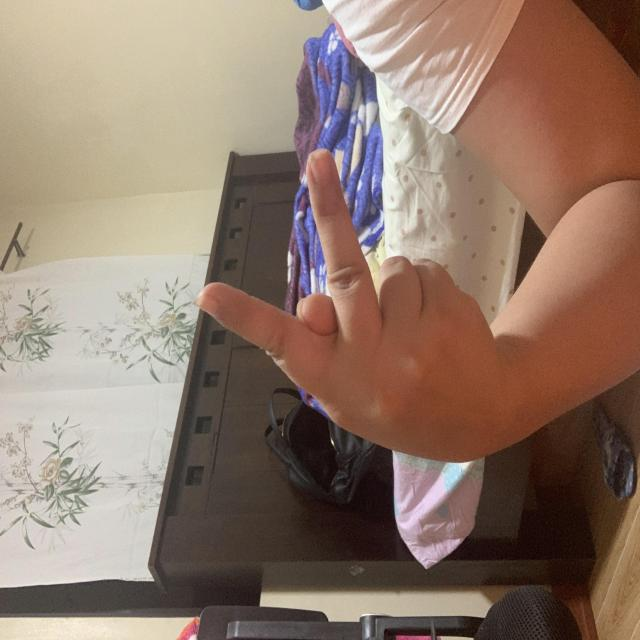K: (149, 195, 466, 493)
